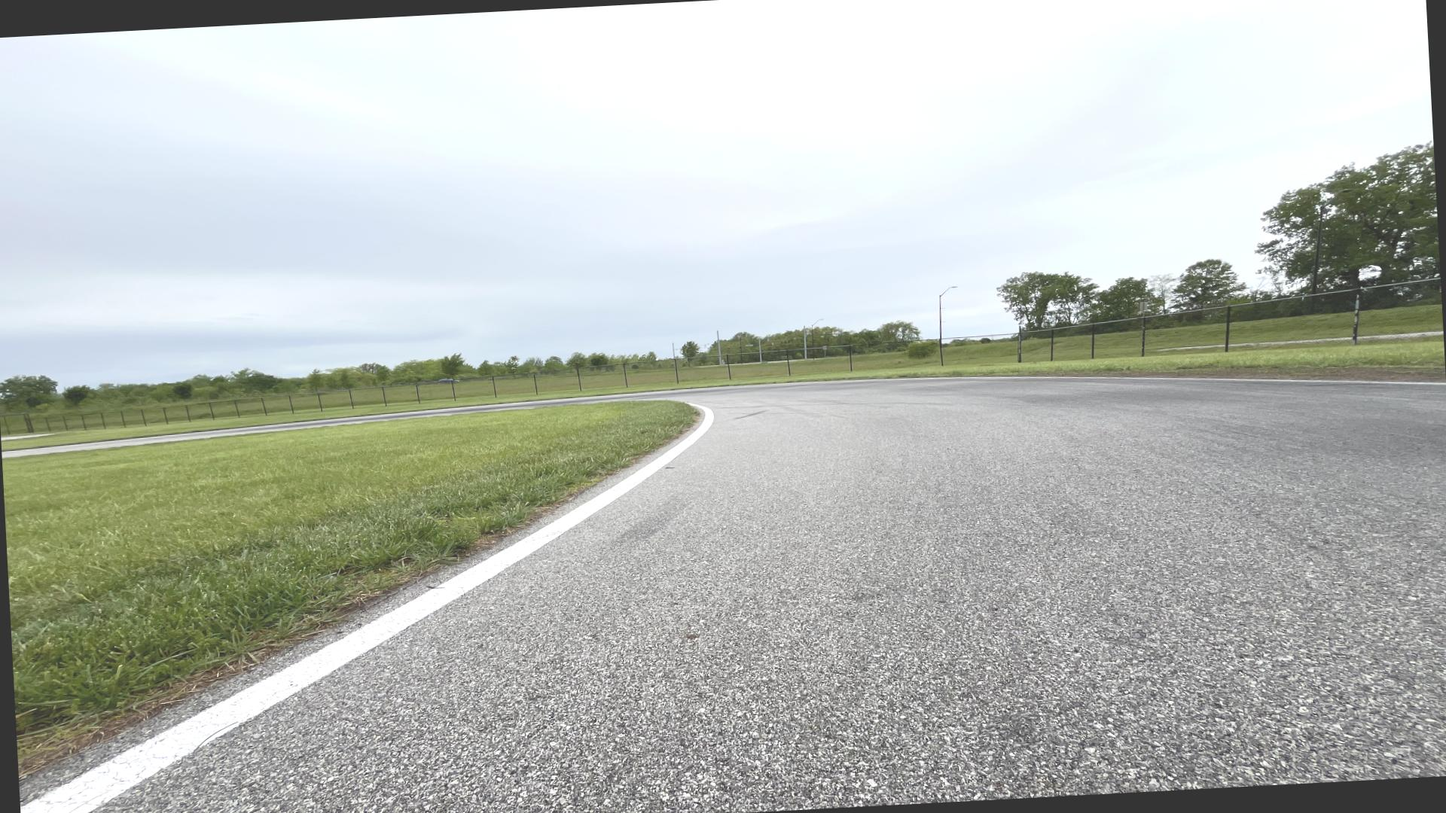white-line: (20, 403, 714, 812), (849, 377, 1445, 385)
